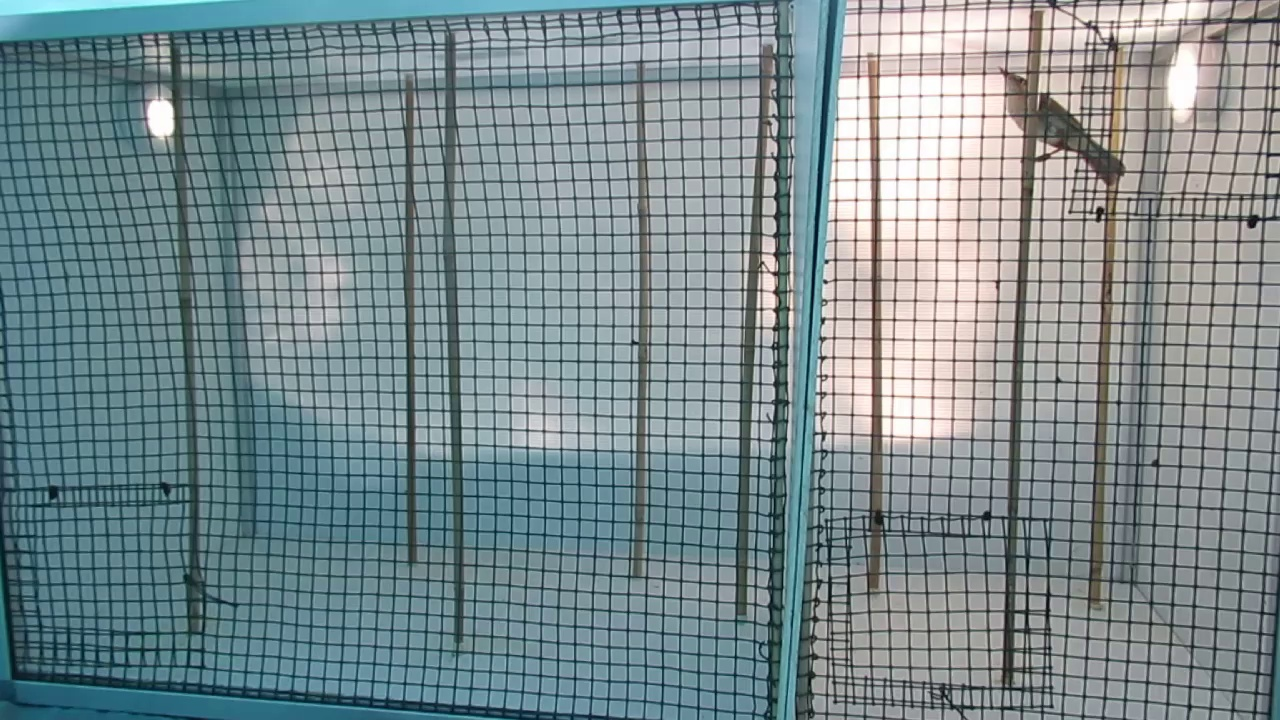bird: (999, 65, 1123, 193)
stick: (1002, 13, 1044, 684), (733, 46, 777, 617), (1089, 45, 1128, 605), (170, 49, 204, 630), (431, 37, 460, 643), (866, 59, 887, 588), (401, 78, 421, 564), (634, 62, 652, 577)
